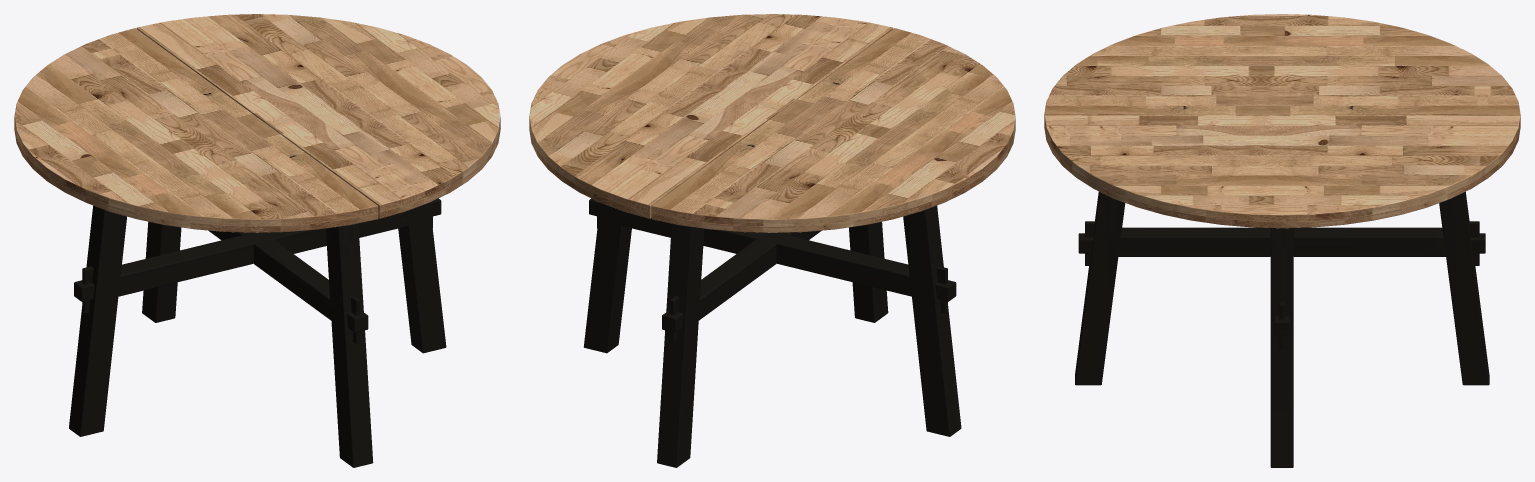
3 renders of one model, left to right at view 1: azimuth 30°, elevation 25°; view 2: azimuth 150°, elevation 25°; view 3: azimuth 270°, elevation 25°, orthographic. The views are drawn at different scales.
Parts seen in each view (by area): view 1: 50593805_dining_table, 50593805_dining_table.001, 50593805_dining_table.002; view 2: 50593805_dining_table, 50593805_dining_table.001, 50593805_dining_table.002; view 3: 50593805_dining_table, 50593805_dining_table.001, 50593805_dining_table.002.
Boxes of the visible parts, box(x1,y1,x2,y2) form: 50593805_dining_table: box(14, 14, 500, 232); 50593805_dining_table.001: box(69, 198, 446, 467); 50593805_dining_table.002: box(14, 28, 500, 232); 50593805_dining_table: box(529, 14, 1015, 232); 50593805_dining_table.001: box(583, 198, 961, 467); 50593805_dining_table.002: box(529, 28, 1015, 232); 50593805_dining_table: box(1044, 14, 1520, 228); 50593805_dining_table.001: box(1075, 191, 1489, 467); 50593805_dining_table.002: box(1044, 71, 1520, 228).
Size of the model in its own units: 1.2 by 0.7401 by 1.2.
Materials: 3 (3 with a texture image).
